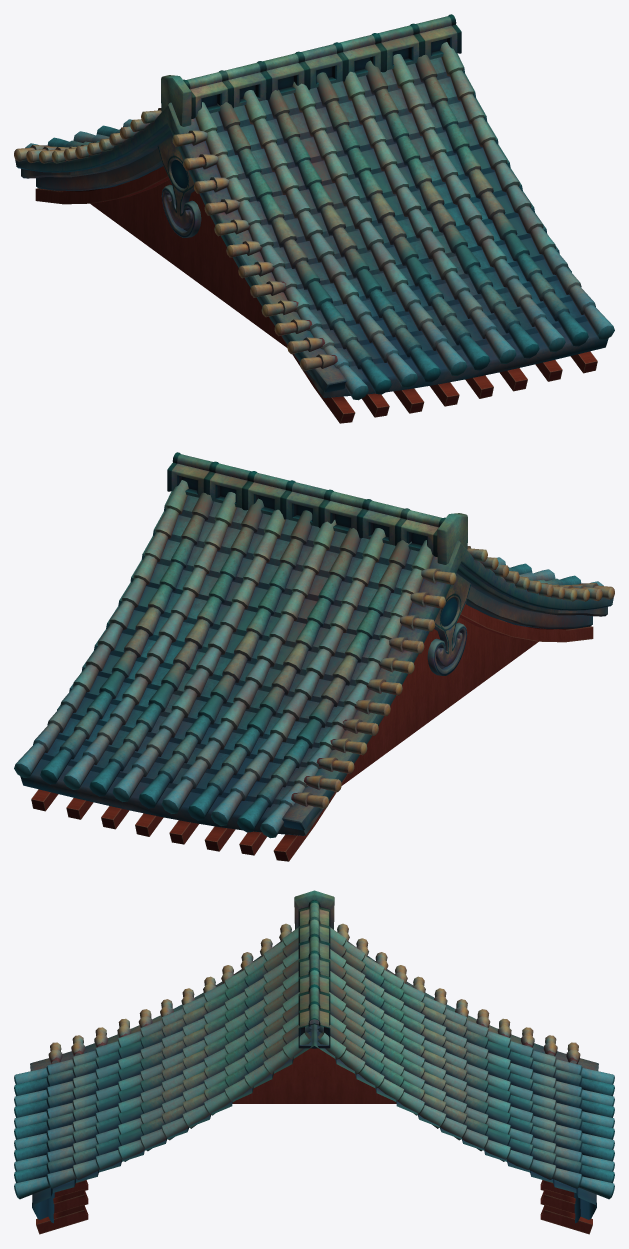
File: SM_RoofPiece_BigWall.glb
The picture shows the model from 3 angles, top to bottom: view 1: azimuth 30°, elevation 25°; view 2: azimuth 150°, elevation 25°; view 3: azimuth 270°, elevation 25°; orthographic projection. The views are drawn at different scales.
Parts seen in each view (by area): view 1: SM_RoofPiece_BigWall_LOD0; view 2: SM_RoofPiece_BigWall_LOD0; view 3: SM_RoofPiece_BigWall_LOD0.
Part boxes in pixels (x1,y1,x2,y2): SM_RoofPiece_BigWall_LOD0: (14, 14, 614, 423); SM_RoofPiece_BigWall_LOD0: (14, 452, 614, 861); SM_RoofPiece_BigWall_LOD0: (14, 890, 614, 1234).
Size of the model in its own units: 4.4 by 3.56 by 8.6.
Materials: 2 (2 with a texture image).
